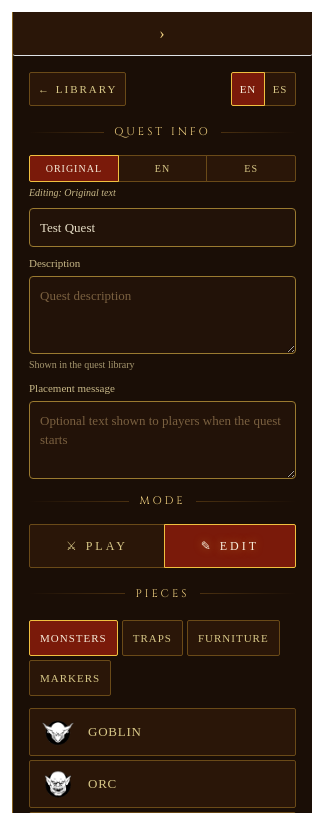
Scenario: Sidebar language switcher › clicking ES switches visible text to Spanish and persists to localStorage
Expected: the text "Quest Info" is shown, [114, 124, 211, 140]
What coordinates should you click on to do the following:
click the button "ES"
I would click on:
 (280, 89)
Its box is [264, 72, 296, 106].
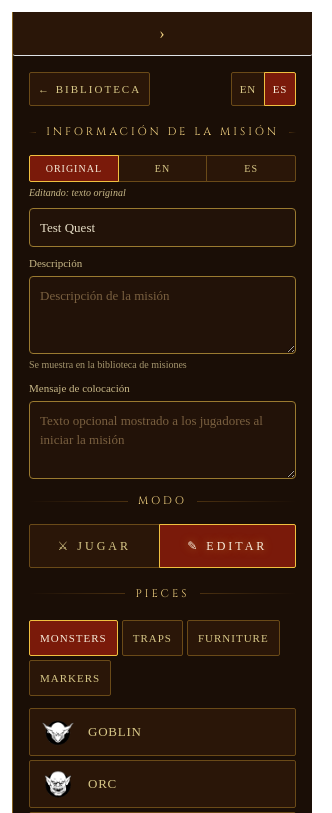
Result: the text "Información de la Misión" is shown at [46, 124, 279, 140]
